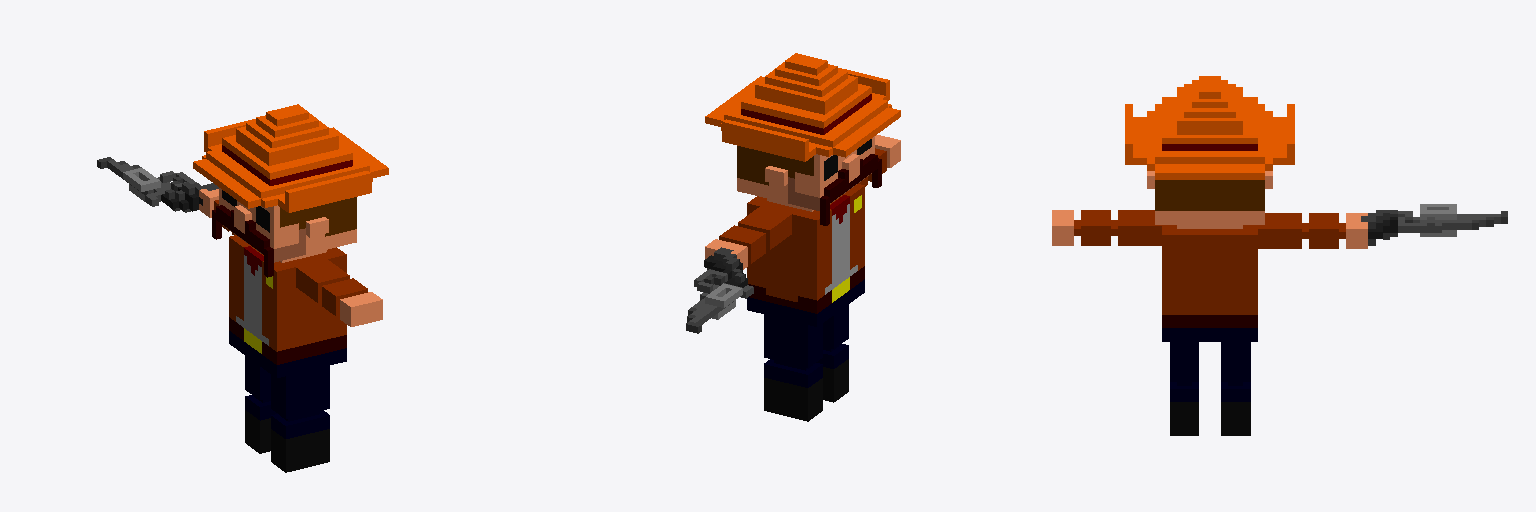
3 views of the same model, side by side, from view 1: azimuth 30°, elevation 25°; view 2: azimuth 150°, elevation 25°; view 3: azimuth 270°, elevation 25° (orthographic).
Parts seen in each view (by area): view 1: object 1; view 2: object 1; view 3: object 1.
Boxes of the visible parts, x1,y1,x2,y2 form: object 1: [97, 104, 388, 472]; object 1: [686, 53, 900, 421]; object 1: [1052, 76, 1507, 435].
Bounding box in the file's own units: 2.2 × 5.1 × 6.2.
1 materials, 1 textured.